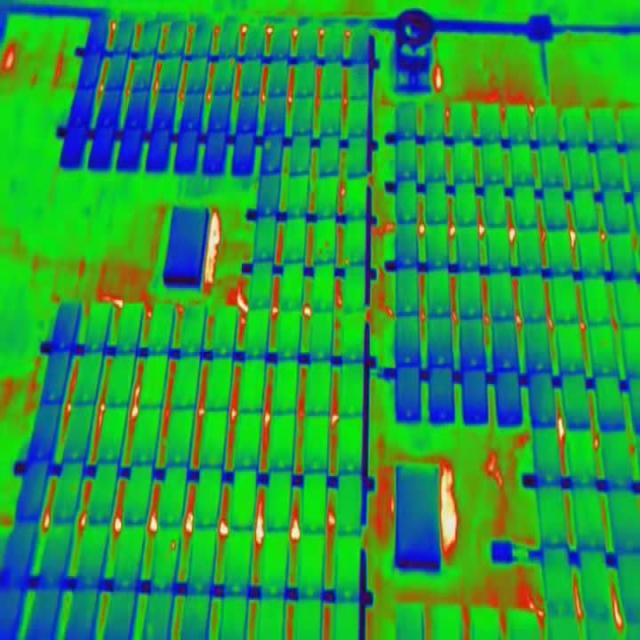Orange-Spots: (325, 240, 329, 250), (319, 249, 323, 255), (344, 260, 348, 264)
